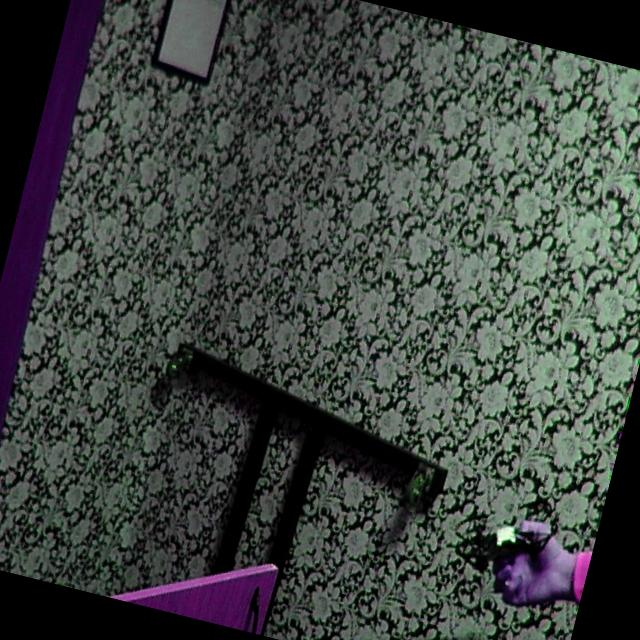drone: (436, 478, 565, 594)
